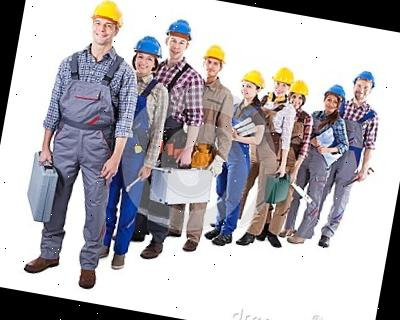helmet: (90, 0, 129, 27), (131, 32, 164, 58), (164, 16, 196, 40), (202, 42, 231, 64), (240, 67, 268, 89), (270, 65, 297, 87), (288, 78, 312, 98), (325, 82, 347, 99), (354, 68, 374, 84)
no_wear: (47, 48, 138, 140), (127, 79, 171, 150), (160, 62, 202, 124), (340, 100, 380, 154), (305, 110, 346, 158), (230, 104, 266, 150), (260, 99, 297, 142), (288, 110, 313, 156)
